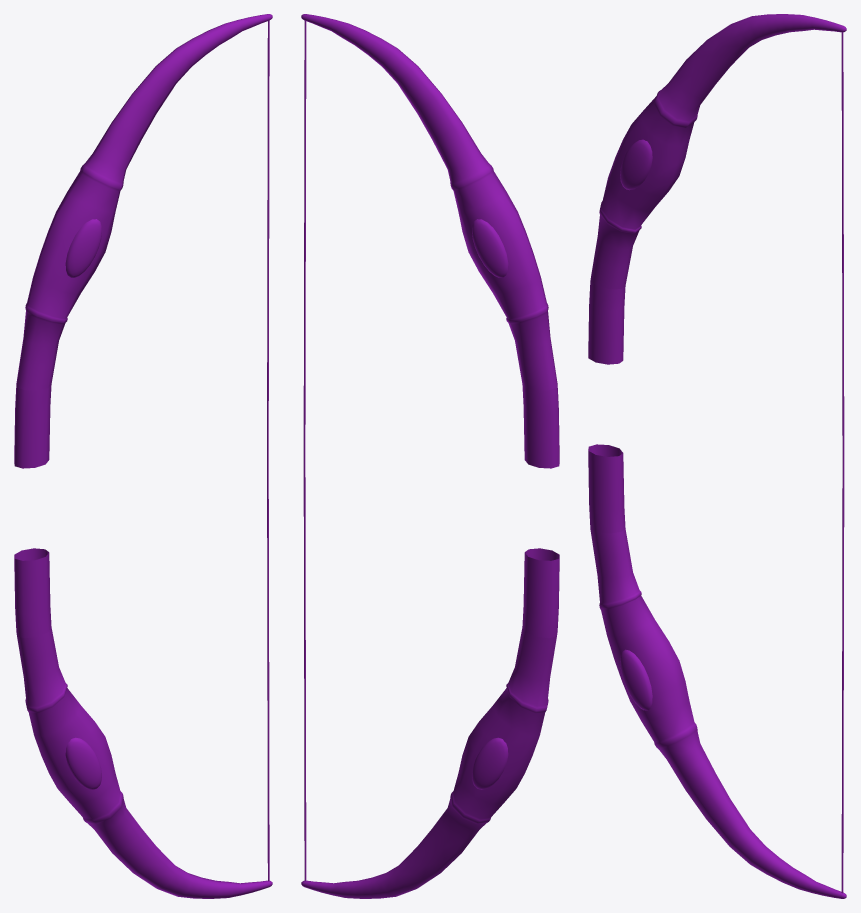
File: BasicBowQuixelModel.obj
3 views of the same model, side by side, from view 1: azimuth 30°, elevation 25°; view 2: azimuth 150°, elevation 25°; view 3: azimuth 330°, elevation 25° (orthographic).
Visible parts, largest first — view 1: Basic_Bow; view 2: Basic_Bow; view 3: Basic_Bow.
Part boxes in pixels (x1,y1,x2,y2): Basic_Bow: (14, 14, 272, 898); Basic_Bow: (301, 14, 559, 898); Basic_Bow: (588, 14, 846, 898).
Size of the model in its own units: 17.04 by 55.33 by 3.27.
